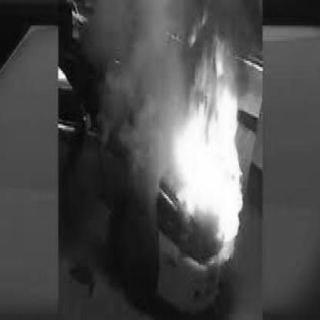Fire: (169, 38, 243, 250)
Smoke: (106, 23, 176, 151)
